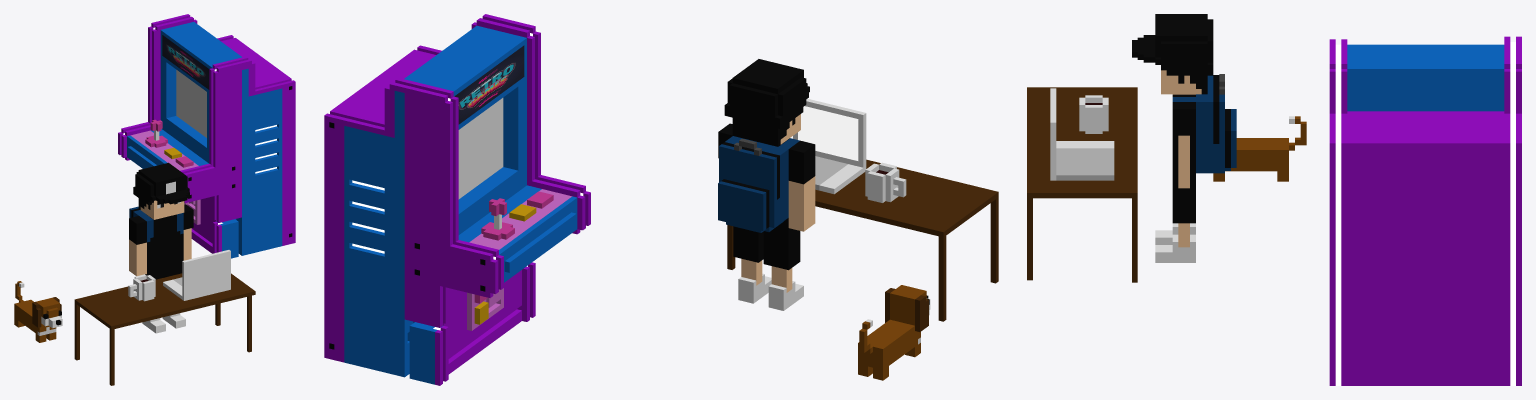
The picture shows the model from 3 angles, left to right: view 1: azimuth 30°, elevation 25°; view 2: azimuth 150°, elevation 25°; view 3: azimuth 270°, elevation 25°; orthographic projection. The views are drawn at different scales.
Visible parts, largest first — view 1: maquina_arcade, Me, Mesa, Laptop, Perro, maquina_arcade_pantalla, arcade_logo, Taza cafe; view 2: maquina_arcade, Me, Mesa, Laptop, Perro, maquina_arcade_pantalla, arcade_logo, Taza cafe; view 3: maquina_arcade, Me, Mesa, arcade_luces, Laptop, Perro, Taza cafe.
Part boxes in pixels (x1,y1,x2,y2): maquina_arcade: (118, 14, 295, 258); Me: (129, 162, 193, 333); Mesa: (74, 273, 255, 385); Laptop: (163, 250, 230, 300); Perro: (14, 281, 62, 342); maquina_arcade_pantalla: (176, 70, 206, 137); arcade_logo: (162, 35, 209, 89); Taza cafe: (128, 274, 155, 301); maquina_arcade: (324, 14, 590, 385); Me: (718, 59, 815, 310); Mesa: (727, 159, 998, 321); Laptop: (793, 98, 866, 194); Perro: (858, 285, 930, 380); maquina_arcade_pantalla: (458, 98, 503, 199); arcade_logo: (454, 45, 524, 124); Taza cafe: (865, 162, 906, 202); maquina_arcade: (1329, 36, 1521, 385); Me: (1132, 14, 1236, 262); Mesa: (1027, 87, 1137, 282); arcade_luces: (1335, 42, 1515, 385); Laptop: (1050, 88, 1114, 180); Perro: (1213, 116, 1306, 181); Taza cafe: (1079, 95, 1108, 133).
Bounding box in the file's own units: 8.9 × 5.5 × 8.5.
10 materials, 7 textured.
